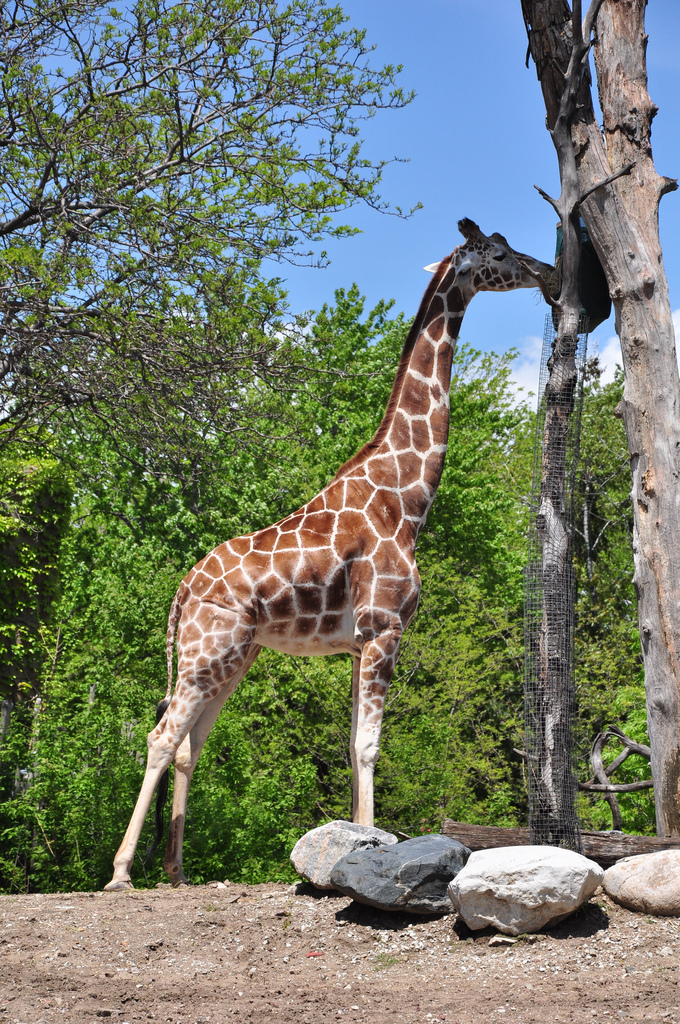giraffe: (116, 213, 602, 872)
